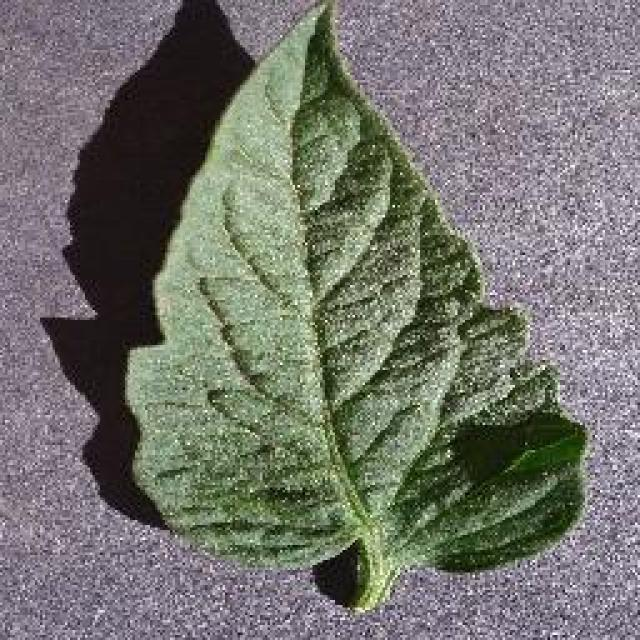Healthy: (100, 0, 605, 625)
